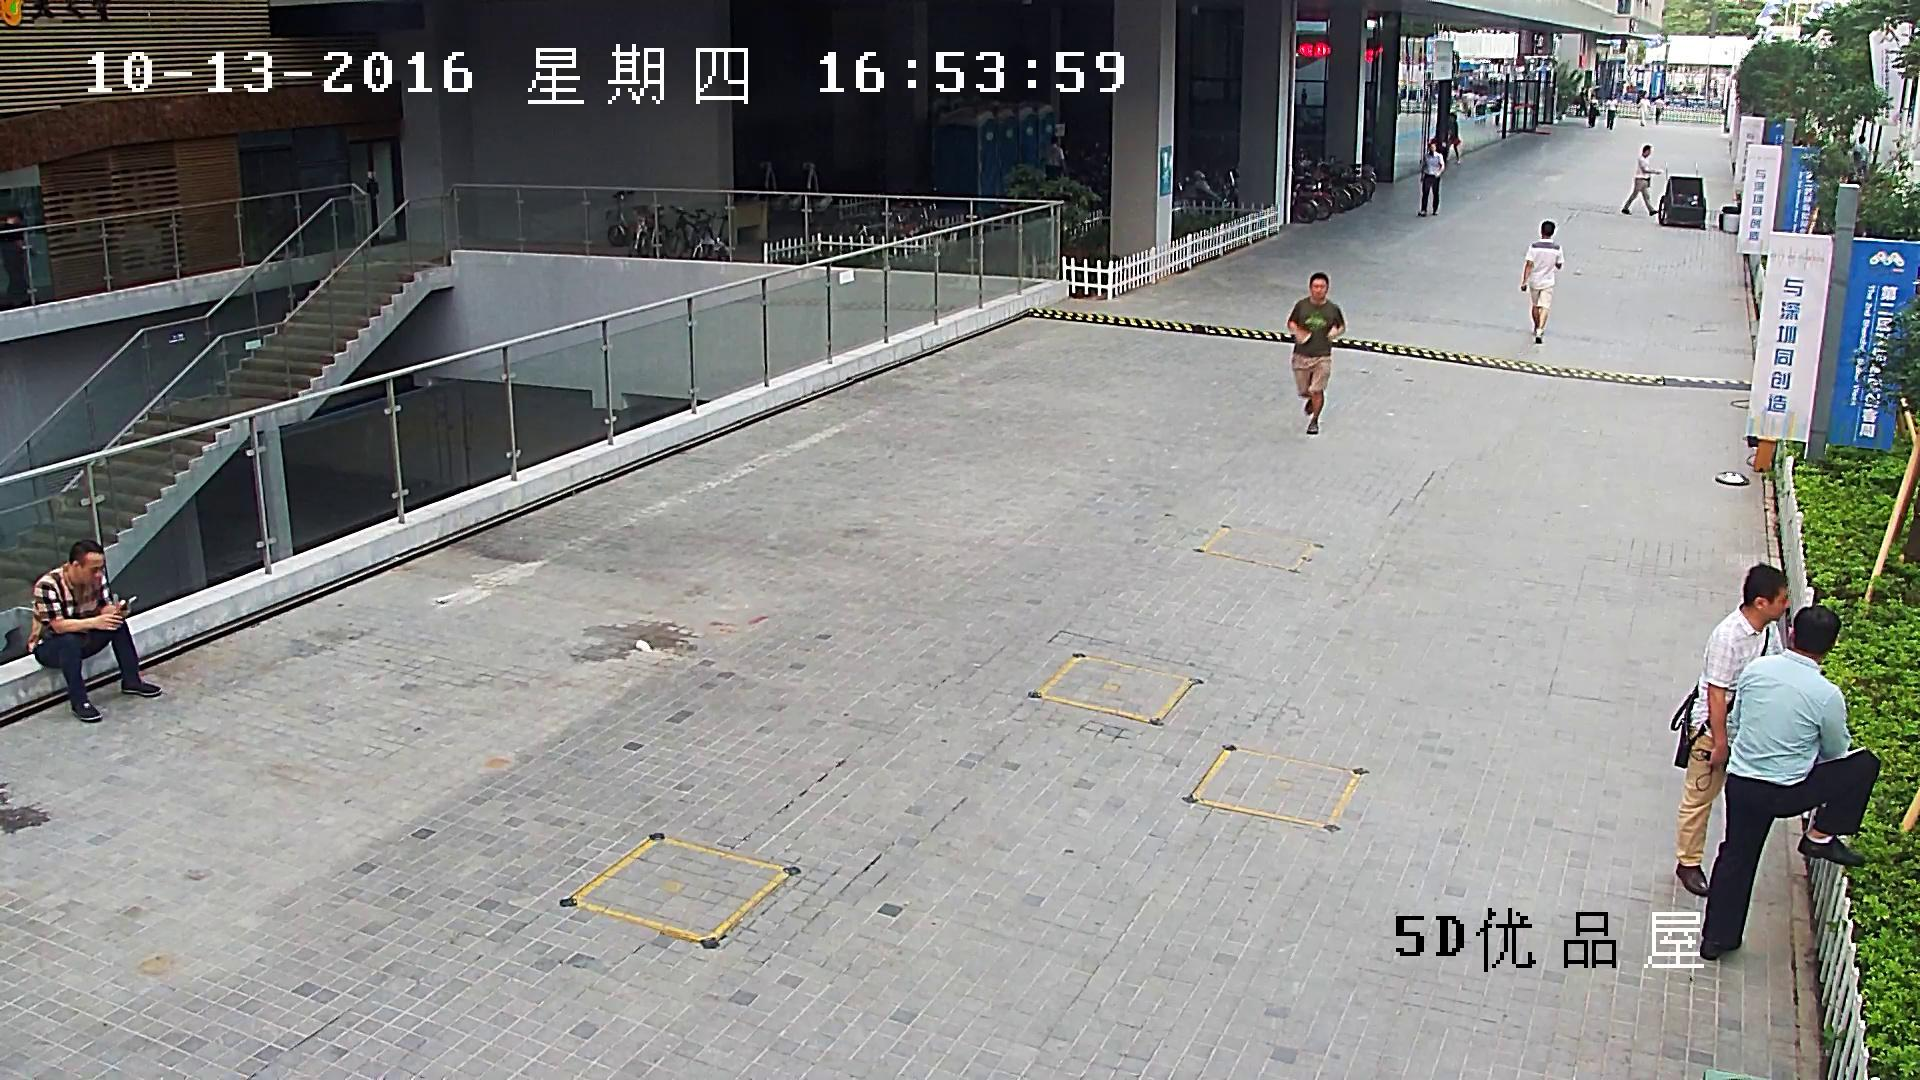person: (1700, 605, 1881, 959), (1669, 561, 1789, 896), (27, 537, 163, 721), (1287, 272, 1345, 434), (1521, 220, 1564, 342), (1621, 144, 1659, 215), (0, 209, 26, 310), (1418, 141, 1445, 216), (1441, 113, 1460, 164), (1636, 90, 1651, 125), (1587, 94, 1599, 127), (1605, 93, 1617, 129), (1852, 135, 1867, 160), (1652, 94, 1664, 124), (1578, 87, 1588, 117)
